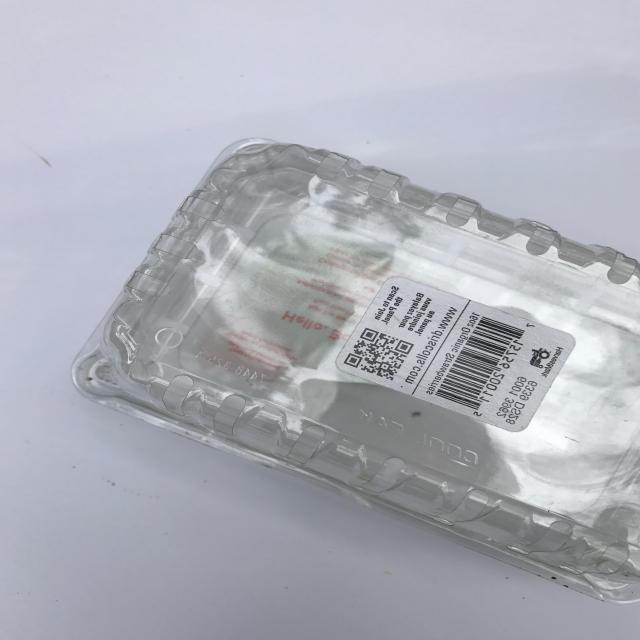plastic: (70, 136, 640, 604)
